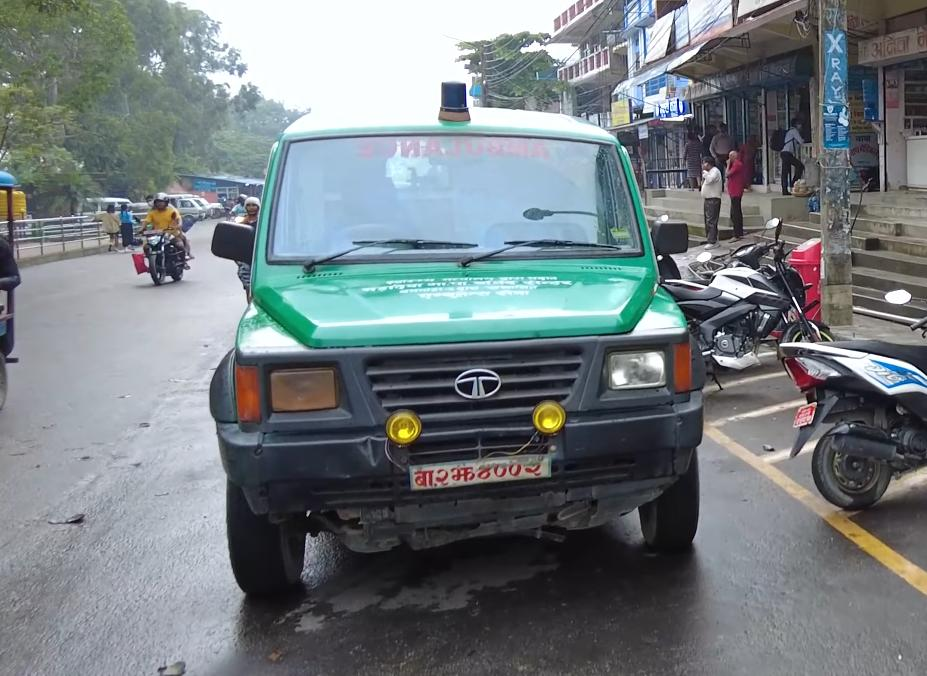ambulance: (206, 73, 725, 607)
bike: (660, 236, 841, 379), (135, 218, 192, 286)
scooter: (778, 289, 927, 516)
